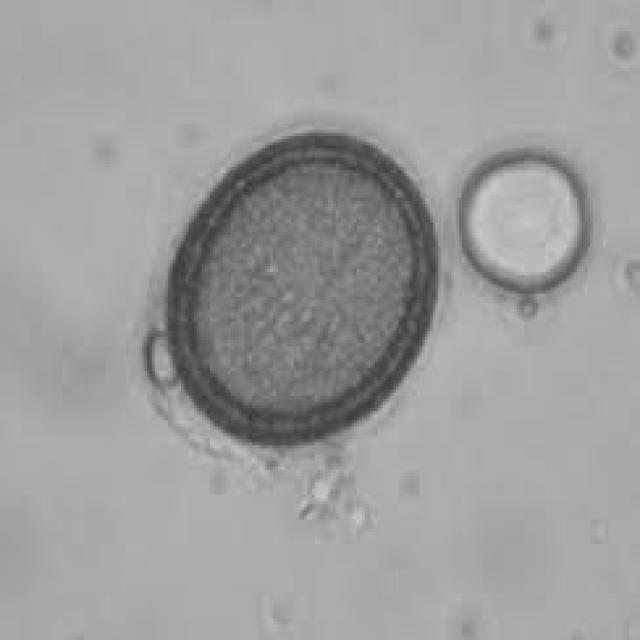Taenia Sp: (161, 114, 442, 446)
